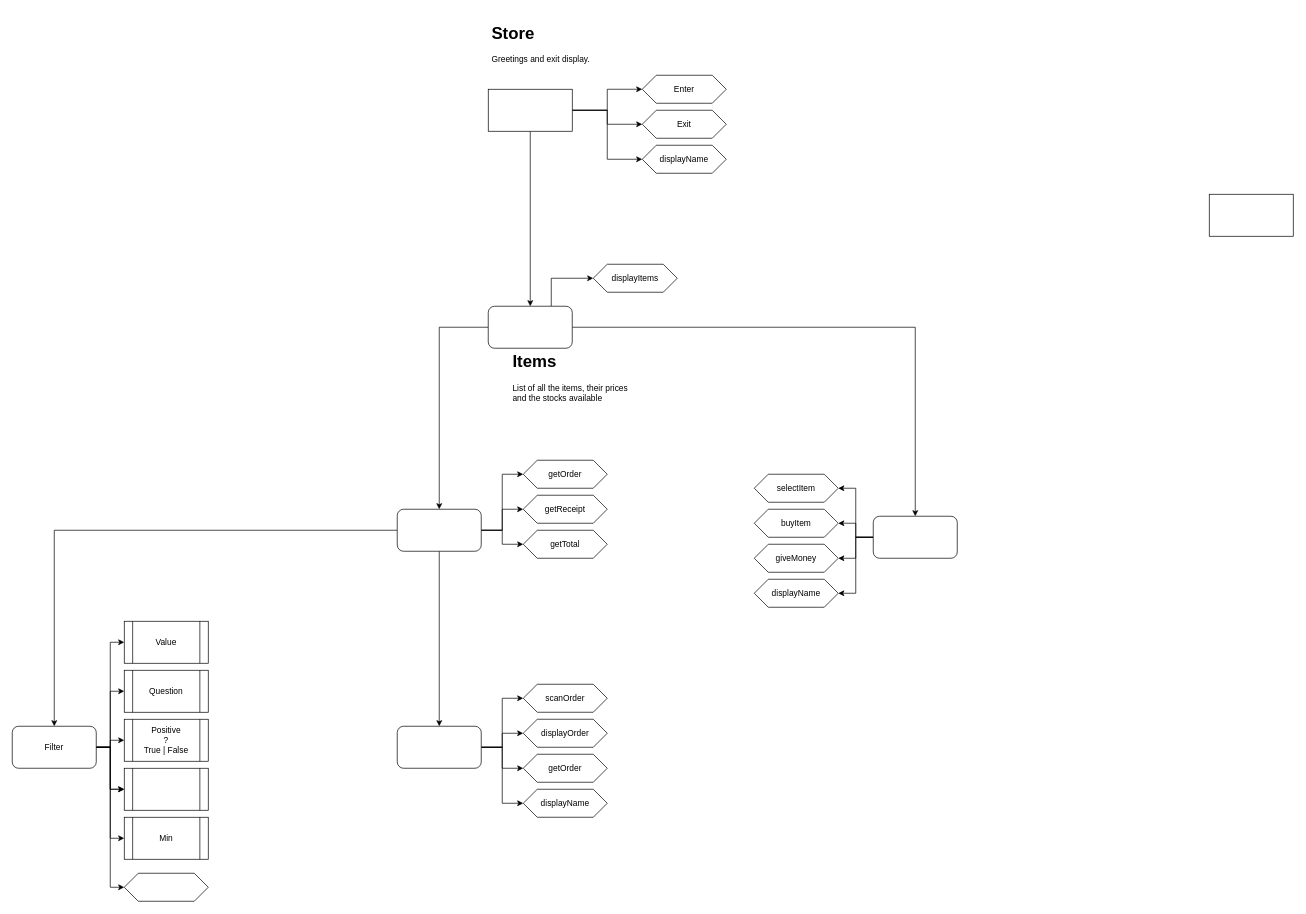
Some shapes in this 1306 by 914 pixel diagram are drawn without their labels. The shapes that lost their labels are listed below. From the top down, each one's centre as x and y in pixels, then its label:
At point 530,110: "Store".
At point 1251,215: "Main".
At point 530,327: "Items".
At point 439,530: "Register".
At point 915,537: "Customer".
At point 439,747: "Cashier".
At point 166,789: "Max".
At point 166,887: "filterChoice".
